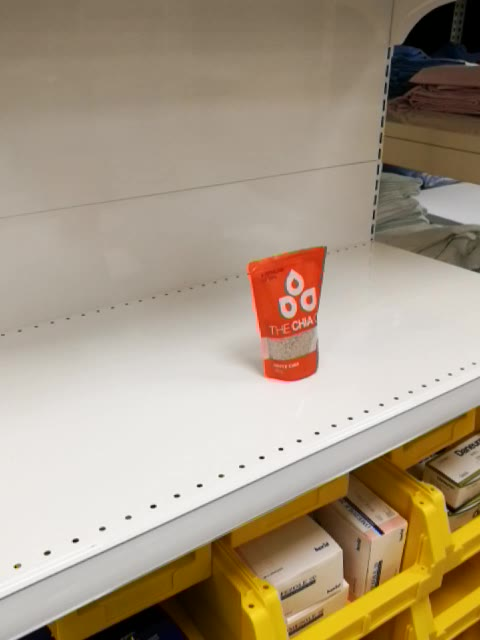whitechia: (244, 245, 330, 381)
